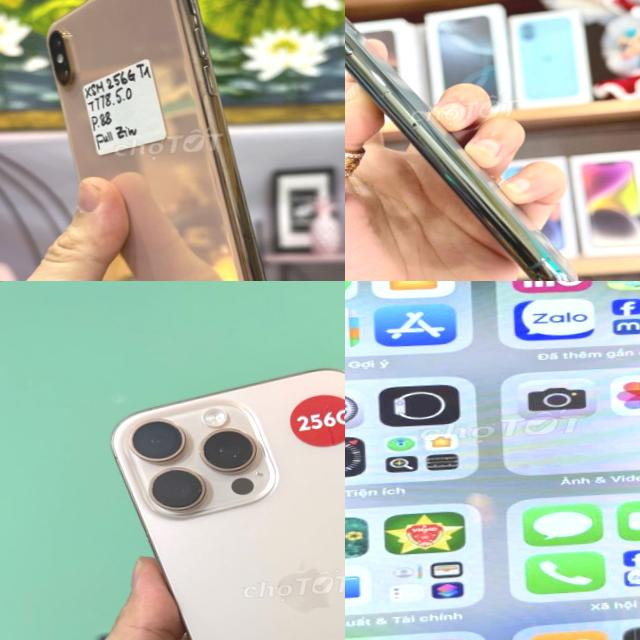gen_11: (345, 16, 578, 281)
gen_16: (113, 370, 345, 640)
gen_x_xs: (345, 281, 640, 640), (6, 0, 319, 281)
